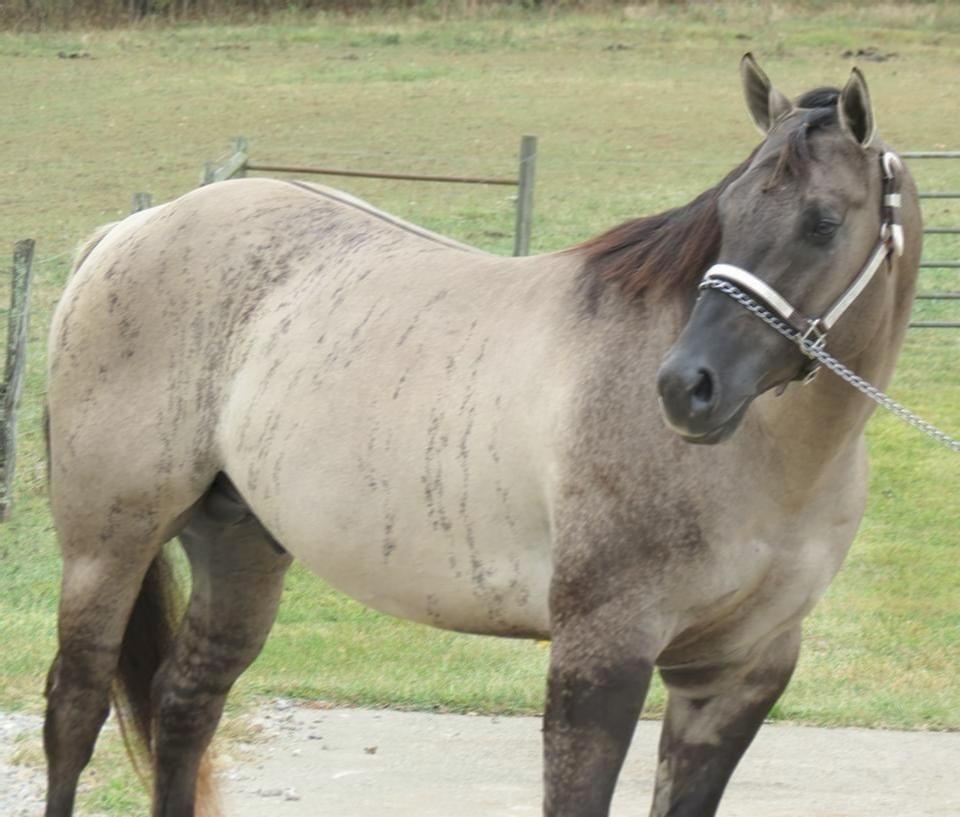horse: (38, 50, 925, 816)
